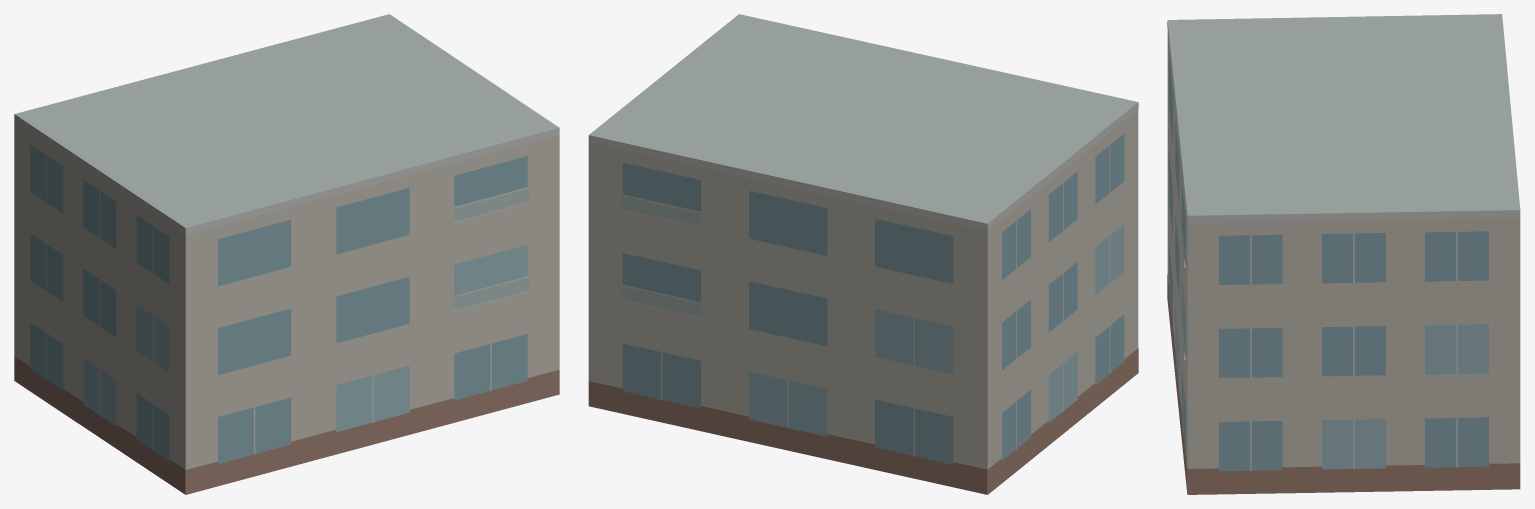
Rendered from survey-upis-32802243.glb.
3 views of the same model, side by side, from view 1: azimuth 30°, elevation 25°; view 2: azimuth 150°, elevation 25°; view 3: azimuth 270°, elevation 25° (orthographic). The views are drawn at different scales.
Parts seen in each view (by area): view 1: survey-upis-32802243.tmp; view 2: survey-upis-32802243.tmp; view 3: survey-upis-32802243.tmp.
Boxes of the visible parts, x1,y1,x2,y2 form: survey-upis-32802243.tmp: (14, 14, 559, 494); survey-upis-32802243.tmp: (588, 14, 1138, 494); survey-upis-32802243.tmp: (1167, 14, 1520, 494).
Bounding box in the file's own units: 14.19 × 9.15 × 10.49.
